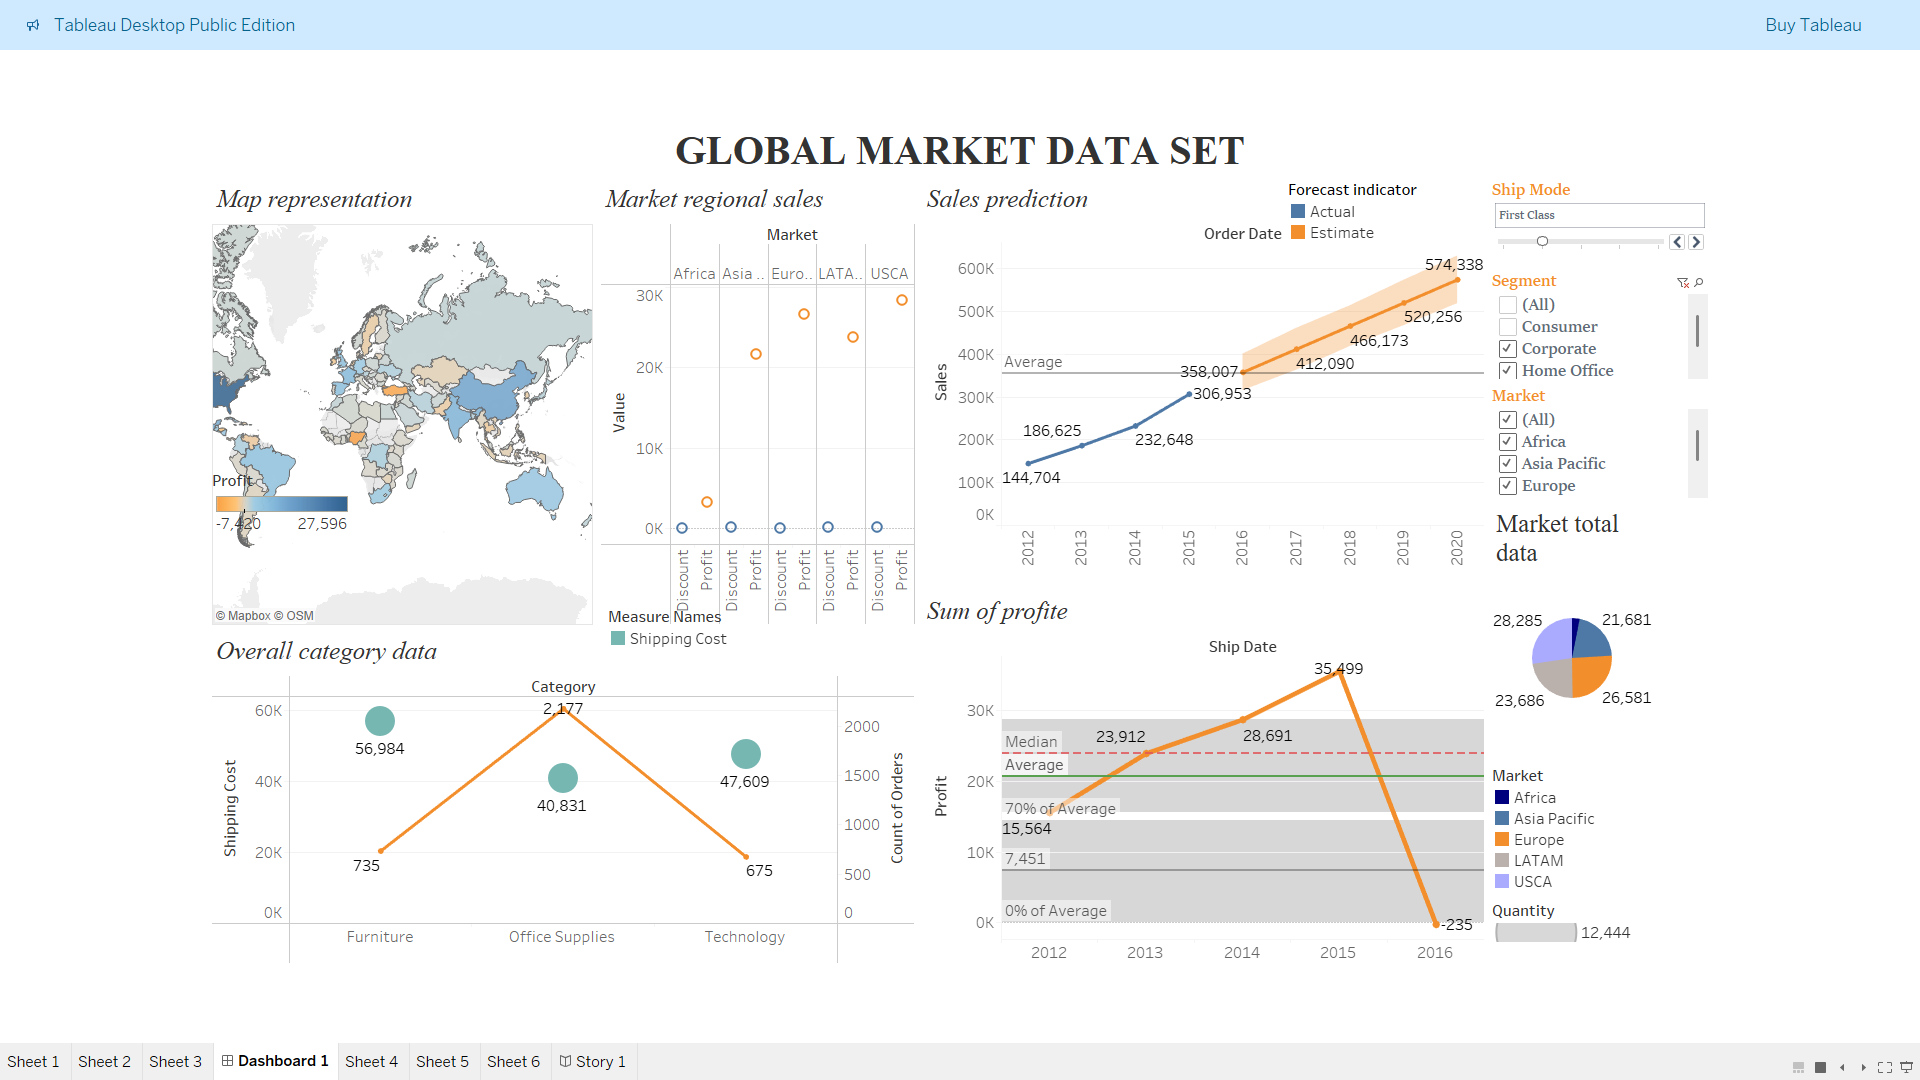

What the dashboard file says about the page in this screenshot:
{"tool":"tableau","page":{"name":"Dashboard 1","canvas":[1000,1000],"units":"permille","ordinal":0},"visuals":[{"type":"title","box":[5.3,10,989.5,66.1]},{"type":"legend","title":"Sheet 2","param":"[federated.1nj6qd210zfpyo1dzl5g90oos3fo].[none:Forecast Indicator:nk]","box":[715.8,73.6,88.8,89.8]},{"type":"worksheet","title":"Sheet 3","mark":"Automatic","box":[5.3,76.1,255.6,522.4]},{"type":"worksheet","title":"Sheet 4","mark":"Shape","cols":["Market"],"box":[260.9,76.1,212.2,522.4]},{"type":"worksheet","title":"Sheet 2","mark":"Automatic","rows":["Sales"],"cols":["Order Date"],"box":[473,76.1,374.3,477.6]},{"type":"filter","title":"Sheet 1","param":"[federated.1nj6qd210zfpyo1dzl5g90oos3fo].[none:Ship Mode:nk]","box":[847.4,76.1,147.4,113.5]},{"type":"filter","title":"Sheet 1","param":"[federated.1nj6qd210zfpyo1dzl5g90oos3fo].[none:Segment:nk]","box":[847.4,189.5,147.4,143.4]},{"type":"filter","title":"Sheet 1","param":"[federated.1nj6qd210zfpyo1dzl5g90oos3fo].[none:Market:nk]","box":[847.4,332.9,147.4,148.4]},{"type":"legend","title":"Sheet 3","param":"[federated.1nj6qd210zfpyo1dzl5g90oos3fo].[sum:Profit:qk]","box":[7.9,411.5,92.1,109.7]},{"type":"worksheet","title":"Sheet 6","mark":"Pie","box":[847.4,481.3,147.4,322.9]},{"type":"worksheet","title":"Sheet 1","mark":"Automatic","rows":["Profit"],"cols":["Ship Date"],"box":[473,553.6,374.3,436.4]},{"type":"legend","title":"Sheet 5","param":"[federated.1nj6qd210zfpyo1dzl5g90oos3fo].[:Measure Names]","box":[268.4,569.8,92.1,53.6]},{"type":"worksheet","title":"Sheet 5","mark":"Automatic","rows":["Shipping Cost","Orders_3DD3943F20C242CB870DA2F6CCF628AD"],"cols":["Category"],"box":[5.3,598.5,467.8,391.5]},{"type":"legend","title":"Sheet 6","param":"[federated.1nj6qd210zfpyo1dzl5g90oos3fo].[none:Market:nk]","box":[847.4,804.3,147.4,122.2]},{"type":"legend","title":"Sheet 6","param":"[federated.1nj6qd210zfpyo1dzl5g90oos3fo].[sum:Quantity:qk]","box":[847.4,926.4,147.4,63.6]}]}

Visuals, with their boxes on the dashboard's canvas, which has no fixed pixel size, in thousandths of its width and height (x1, y1, x2, y2). These are canvas units, not pixel positions in the 1920x1080 screenshot, which may show the page scaled, cropped or inside an application window:
title: bbox=[5, 10, 995, 76]
"Sheet 2" legend: bbox=[716, 74, 805, 163]
"Sheet 3" worksheet: bbox=[5, 76, 261, 598]
"Sheet 4" worksheet (Shape marks): bbox=[261, 76, 473, 598]
"Sheet 2" worksheet: bbox=[473, 76, 847, 554]
"Sheet 1" filter: bbox=[847, 76, 995, 190]
"Sheet 1" filter: bbox=[847, 190, 995, 333]
"Sheet 1" filter: bbox=[847, 333, 995, 481]
"Sheet 3" legend: bbox=[8, 412, 100, 521]
"Sheet 6" worksheet (Pie marks): bbox=[847, 481, 995, 804]
"Sheet 1" worksheet: bbox=[473, 554, 847, 990]
"Sheet 5" legend: bbox=[268, 570, 360, 623]
"Sheet 5" worksheet: bbox=[5, 598, 473, 990]
"Sheet 6" legend: bbox=[847, 804, 995, 926]
"Sheet 6" legend: bbox=[847, 926, 995, 990]
